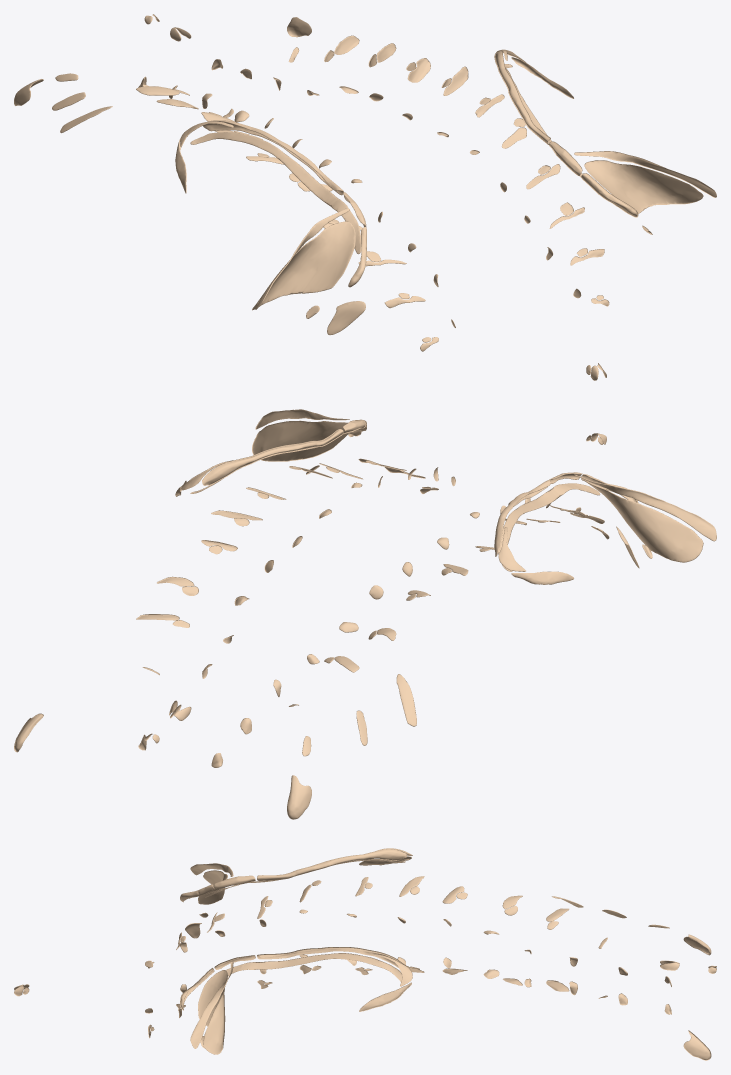
The model's file is back__insertions.5e4ef570d5.glb.
The picture shows the model from 3 angles, top to bottom: view 1: azimuth 30°, elevation 25°; view 2: azimuth 150°, elevation 25°; view 3: azimuth 270°, elevation 25°; orthographic projection. The views are drawn at different scales.
Visible parts, largest first — view 1: Supraspinatus muscle.or, Supraspinatus muscle.ol, Serratus anterior muscle.or, Rhomboid major muscle.er, Descending part of trapezius muscle.ol, Rhomboid major muscle.el, Serratus posterior superior muscle.e1l, Descending part of trapezius muscle.or, Levator scapulae.el; view 2: Supraspinatus muscle.or, Supraspinatus muscle.ol, Rhomboid major muscle.el, Descending part of trapezius muscle.or, Serratus anterior muscle.or, Internal abdominal oblique muscle.or, Rhomboid major muscle.er, Descending part of trapezius muscle.ol; view 3: Supraspinatus muscle.ol, Serratus anterior muscle.ol, Rhomboid major muscle.er, Rhomboid major muscle.el, Descending part of trapezius muscle.ol, Supraspinatus muscle.or, Teres major muscle.ol, Internal abdominal oblique muscle.ol.
Boxes of the visible parts, <box> form: Supraspinatus muscle.or: <box>252,221,355,310</box>; Supraspinatus muscle.ol: <box>584,160,703,213</box>; Serratus anterior muscle.or: <box>190,132,361,254</box>; Rhomboid major muscle.er: <box>203,120,343,195</box>; Descending part of trapezius muscle.ol: <box>574,151,716,197</box>; Rhomboid major muscle.el: <box>494,50,550,144</box>; Serratus posterior superior muscle.e1l: <box>327,301,365,335</box>; Descending part of trapezius muscle.or: <box>255,208,349,309</box>; Levator scapulae.el: <box>581,173,638,217</box>; Supraspinatus muscle.or: <box>584,480,703,562</box>; Supraspinatus muscle.ol: <box>252,420,348,461</box>; Rhomboid major muscle.el: <box>202,429,344,485</box>; Descending part of trapezius muscle.or: <box>574,474,716,541</box>; Serratus anterior muscle.or: <box>498,483,600,571</box>; Internal abdominal oblique muscle.or: <box>287,775,311,819</box>; Rhomboid major muscle.er: <box>494,480,550,556</box>; Descending part of trapezius muscle.ol: <box>255,409,349,429</box>; Supraspinatus muscle.ol: <box>198,970,227,1054</box>; Serratus anterior muscle.ol: <box>225,953,402,981</box>; Rhomboid major muscle.er: <box>257,849,406,880</box>; Rhomboid major muscle.el: <box>257,947,406,967</box>; Descending part of trapezius muscle.ol: <box>190,961,233,1048</box>; Supraspinatus muscle.or: <box>198,870,227,904</box>; Teres major muscle.ol: <box>359,982,411,1011</box>; Internal abdominal oblique muscle.ol: <box>683,1030,711,1060</box>.
Bounding box in the file's own units: 266 × 75.38 × 454.
